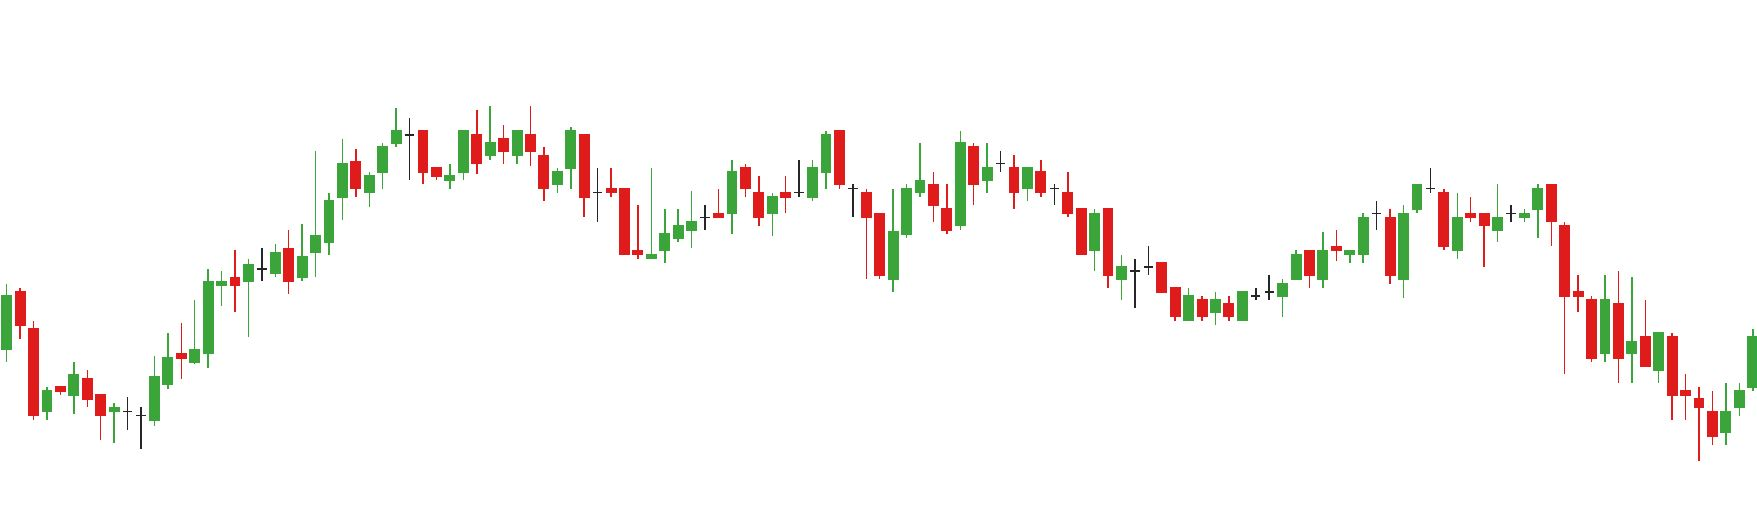buy: (632, 183, 902, 297)
sell: (388, 108, 484, 174)
